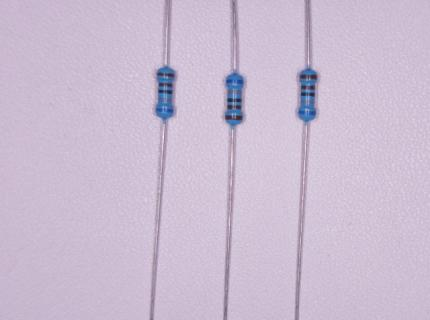Black band: (301, 92, 315, 97), (158, 90, 173, 94), (227, 98, 242, 102)
Blue band: (156, 108, 174, 113), (226, 79, 244, 84), (299, 111, 317, 116)
Brown band: (225, 114, 243, 120), (299, 75, 318, 80), (158, 82, 173, 88), (227, 105, 242, 110), (157, 73, 175, 77), (301, 85, 315, 90)
Grey band: (227, 90, 242, 95), (158, 98, 172, 102), (301, 100, 315, 104)
